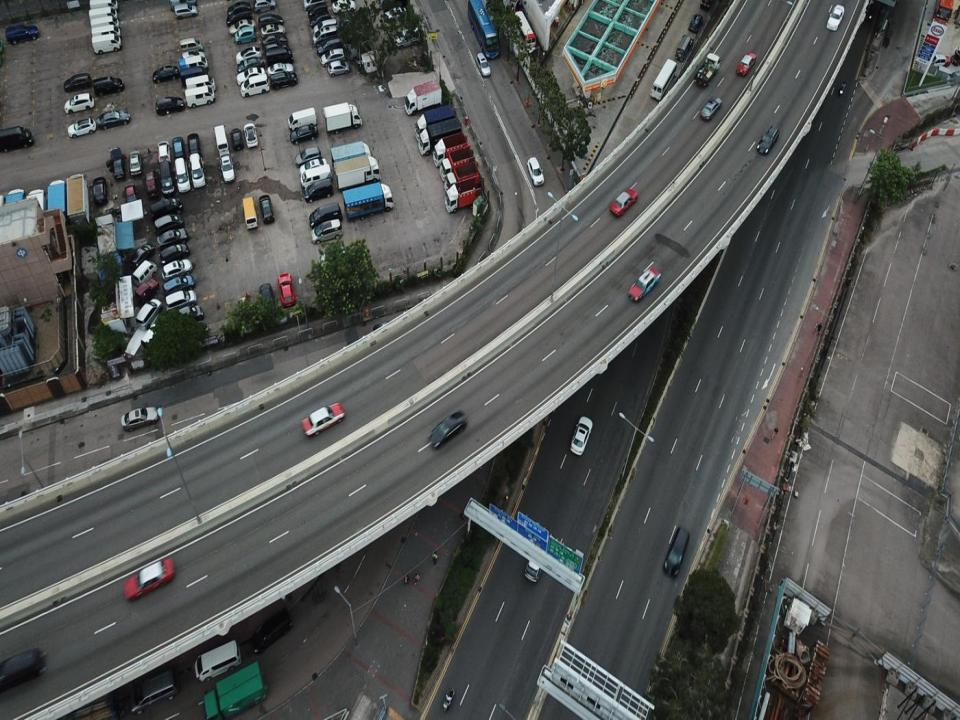bus: (463, 0, 500, 58)
car: (124, 555, 174, 602), (0, 648, 45, 698), (126, 672, 178, 714), (249, 606, 293, 654), (299, 402, 344, 441), (428, 408, 466, 450), (663, 526, 691, 580), (626, 267, 662, 302), (521, 543, 549, 584), (118, 403, 158, 430), (570, 416, 595, 455), (149, 211, 184, 238), (307, 200, 339, 229), (168, 302, 206, 326), (6, 22, 39, 49), (310, 215, 338, 246), (95, 108, 131, 132), (136, 298, 162, 331), (389, 25, 423, 50), (91, 70, 123, 96), (161, 255, 191, 282), (755, 124, 780, 156), (164, 290, 196, 314), (240, 73, 269, 99), (303, 180, 332, 206), (158, 244, 188, 269), (106, 145, 128, 179), (268, 68, 299, 92), (155, 225, 186, 249), (134, 278, 160, 306), (611, 186, 635, 216), (147, 195, 178, 218), (276, 271, 295, 307), (188, 151, 206, 189), (256, 282, 276, 316), (66, 117, 94, 141), (164, 273, 194, 295), (290, 122, 317, 146), (298, 155, 325, 179), (156, 95, 184, 118), (174, 155, 191, 192), (377, 6, 408, 26), (526, 154, 545, 186), (129, 244, 154, 268), (319, 44, 344, 68), (217, 151, 236, 182), (258, 194, 276, 226), (158, 159, 174, 195), (65, 92, 91, 114), (90, 174, 109, 204), (62, 72, 89, 93), (258, 22, 286, 42), (699, 96, 721, 121), (824, 3, 844, 30), (259, 29, 287, 48), (264, 43, 289, 64), (152, 63, 178, 83), (308, 16, 334, 36), (226, 6, 252, 26), (736, 51, 756, 76), (295, 147, 320, 167), (241, 122, 260, 148), (237, 66, 263, 85), (317, 33, 340, 54), (312, 26, 337, 45), (257, 11, 283, 29), (326, 58, 349, 78), (233, 26, 256, 46), (227, 17, 251, 36), (128, 148, 144, 175), (236, 46, 261, 63), (306, 7, 328, 26), (474, 52, 490, 78), (173, 4, 199, 20), (145, 167, 158, 199), (156, 141, 172, 167), (185, 133, 201, 159), (225, 3, 252, 18), (265, 62, 293, 76), (687, 11, 704, 34), (236, 55, 262, 70), (330, 0, 356, 15), (182, 48, 207, 63), (123, 184, 138, 208), (229, 126, 241, 153), (172, 134, 183, 163)
truck: (339, 182, 394, 223), (64, 170, 94, 234), (417, 118, 461, 158), (333, 158, 383, 192), (22, 184, 48, 248), (4, 183, 26, 254), (436, 145, 480, 179), (444, 180, 484, 215), (324, 100, 362, 136), (414, 107, 456, 139), (405, 81, 443, 116), (46, 178, 67, 240), (647, 56, 675, 100), (333, 140, 371, 171), (692, 52, 722, 91), (435, 134, 467, 168), (444, 163, 481, 192)
van: (0, 123, 34, 156), (300, 161, 333, 190), (182, 82, 214, 111), (285, 106, 316, 133), (92, 30, 122, 56), (132, 254, 156, 285), (240, 194, 259, 233), (671, 32, 694, 62), (90, 23, 123, 43), (178, 54, 207, 76), (184, 70, 214, 90), (212, 122, 229, 156), (87, 6, 118, 23), (88, 15, 118, 32), (177, 35, 202, 55), (88, 0, 117, 12)
